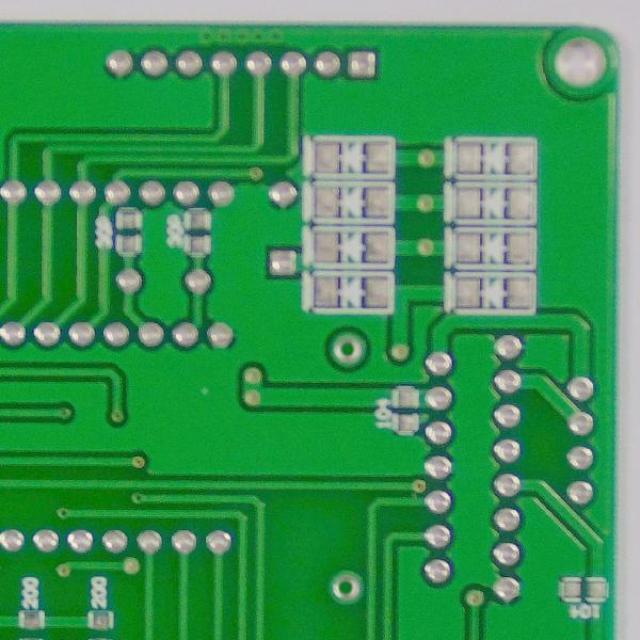Missing_Hole: (327, 328, 370, 369), (325, 567, 365, 606)
